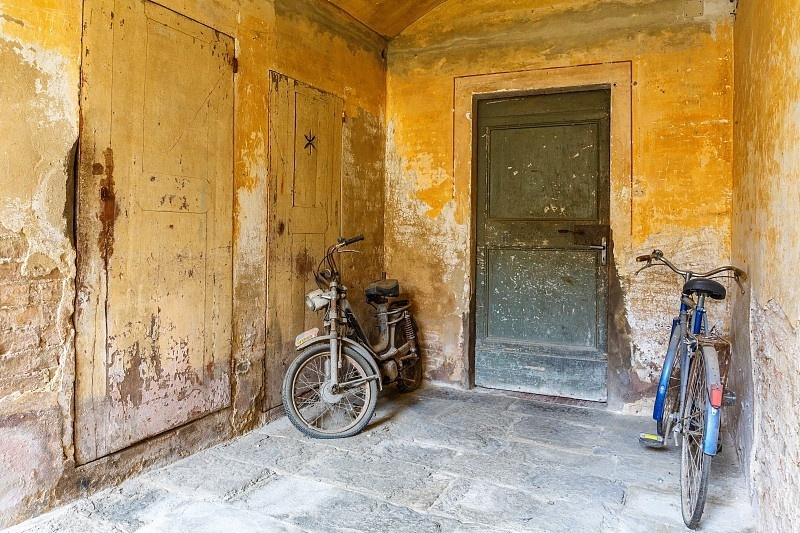non-vehicle: (285, 245, 419, 438), (653, 256, 733, 517)
